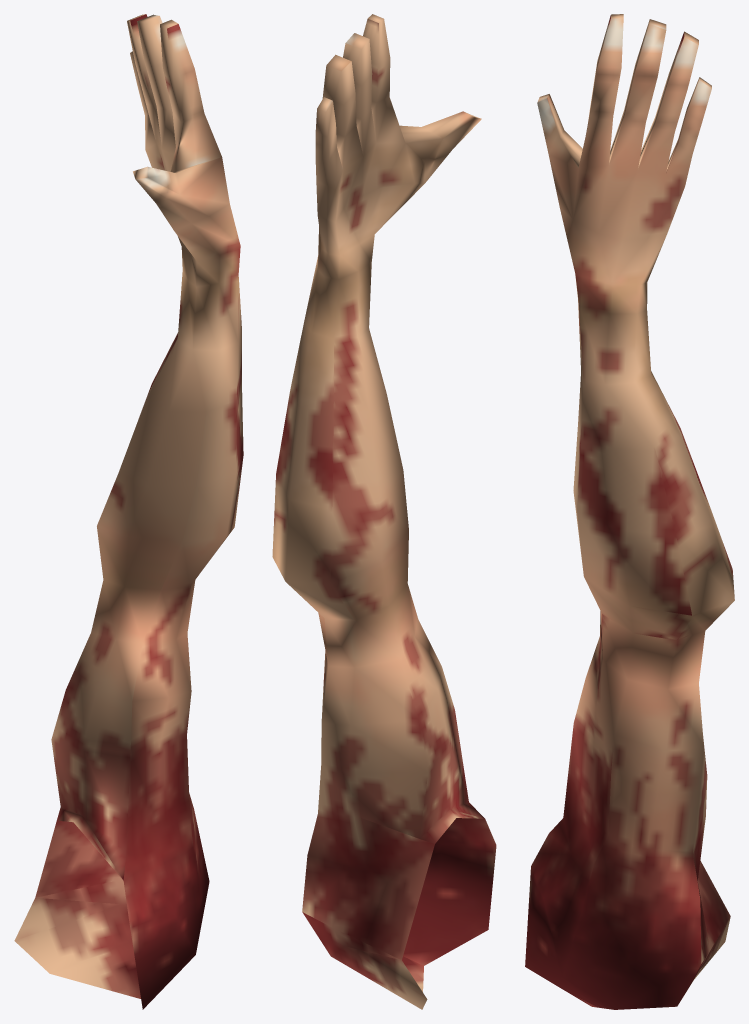
File: arm.glb
3 renders of one model, left to right at view 1: azimuth 30°, elevation 25°; view 2: azimuth 150°, elevation 25°; view 3: azimuth 270°, elevation 25°, orthographic. The views are drawn at different scales.
Parts seen in each view (by area): view 1: Arm; view 2: Arm; view 3: Arm.
Boxes of the visible parts, bbox=[...] form: Arm: bbox=[14, 14, 243, 1009]; Arm: bbox=[272, 14, 496, 1009]; Arm: bbox=[525, 14, 734, 1009].
Bounding box in the file's own units: 0.569 × 2.91 × 0.5482.
1 material, 1 textured.
